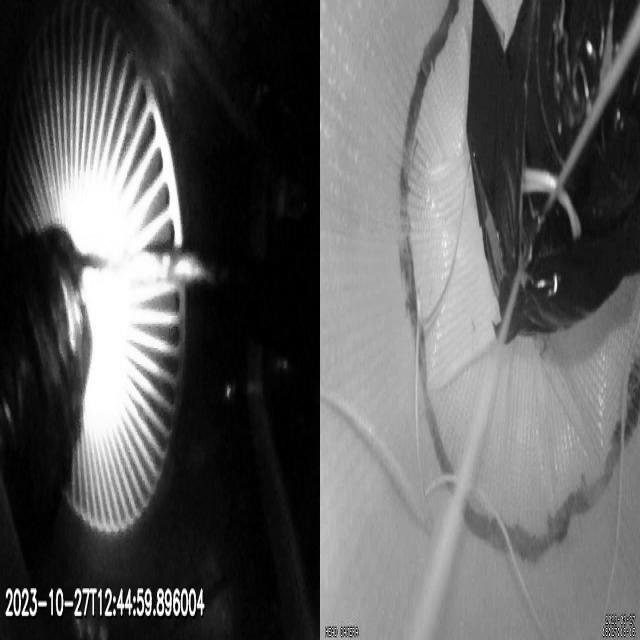red-circle: (399, 0, 640, 563)
